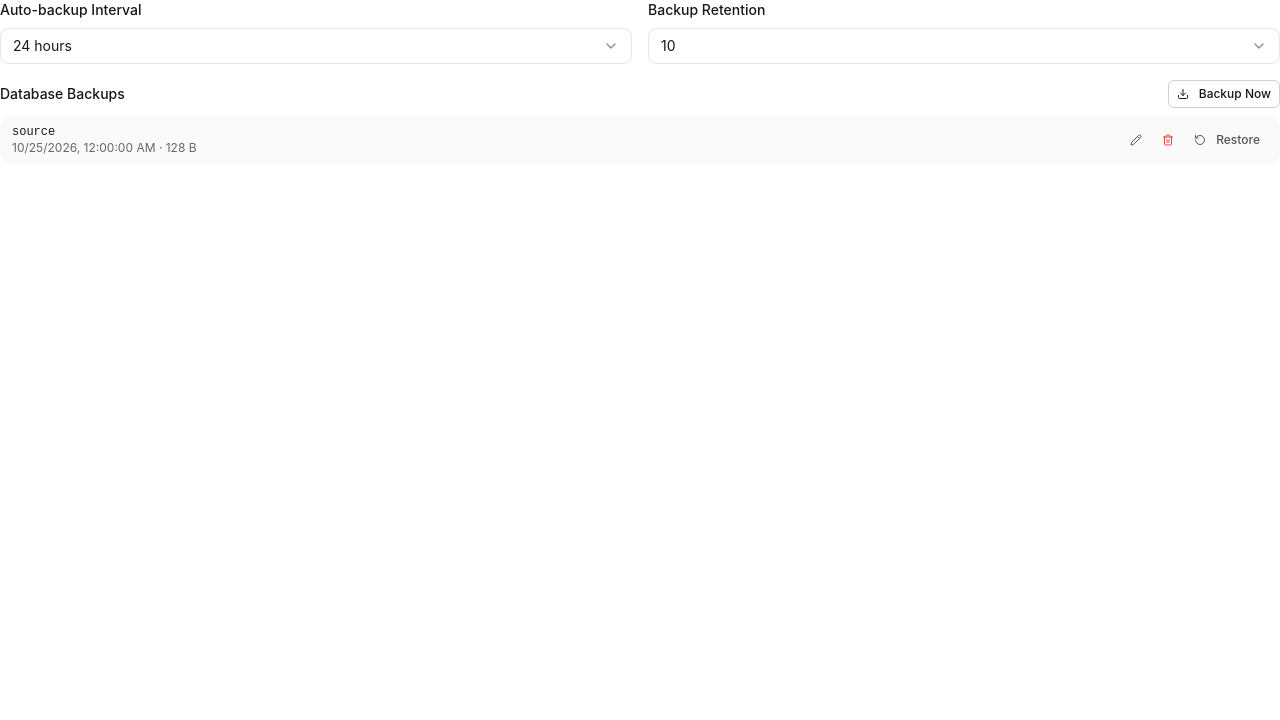
Test case: backup restore committed-result consumer › shows partial success with the unchanged safety ID and refreshes queries without restoring twice
Click the button "Restore".
click(1227, 140)  # box [1186,126,1268,154]
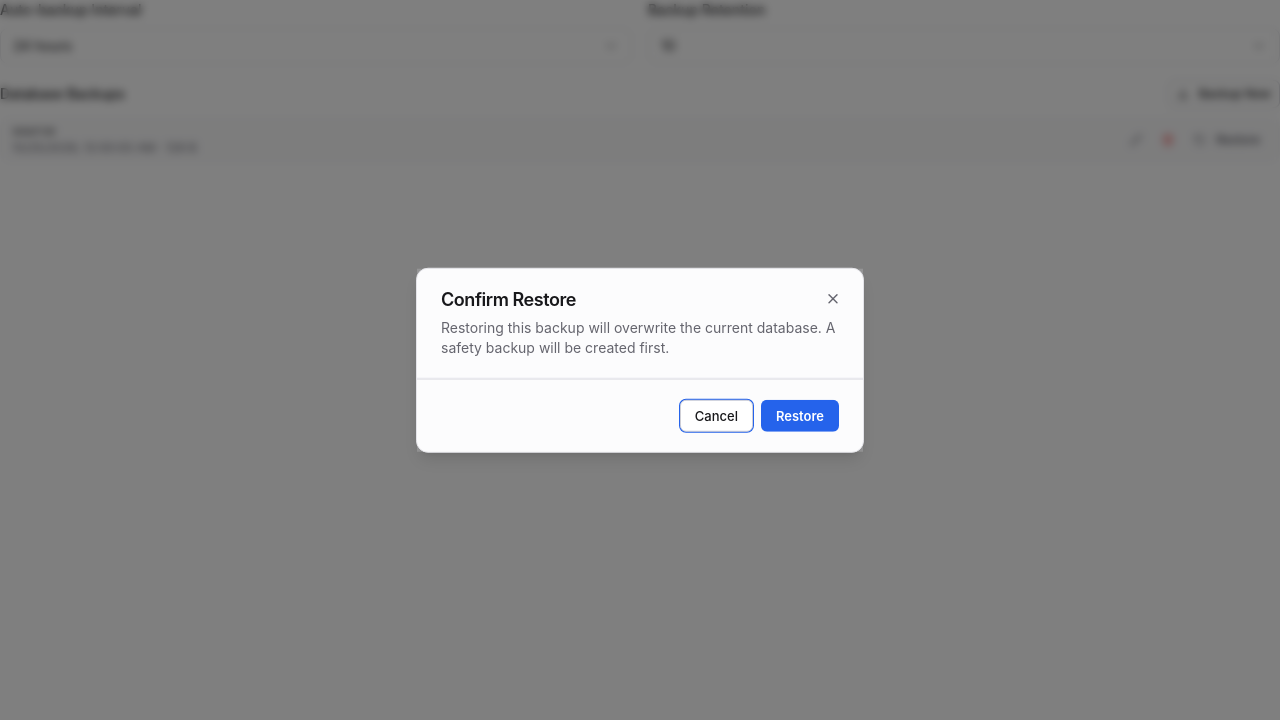
Click the button "Restore".
click(800, 415)  # box [761,399,839,431]
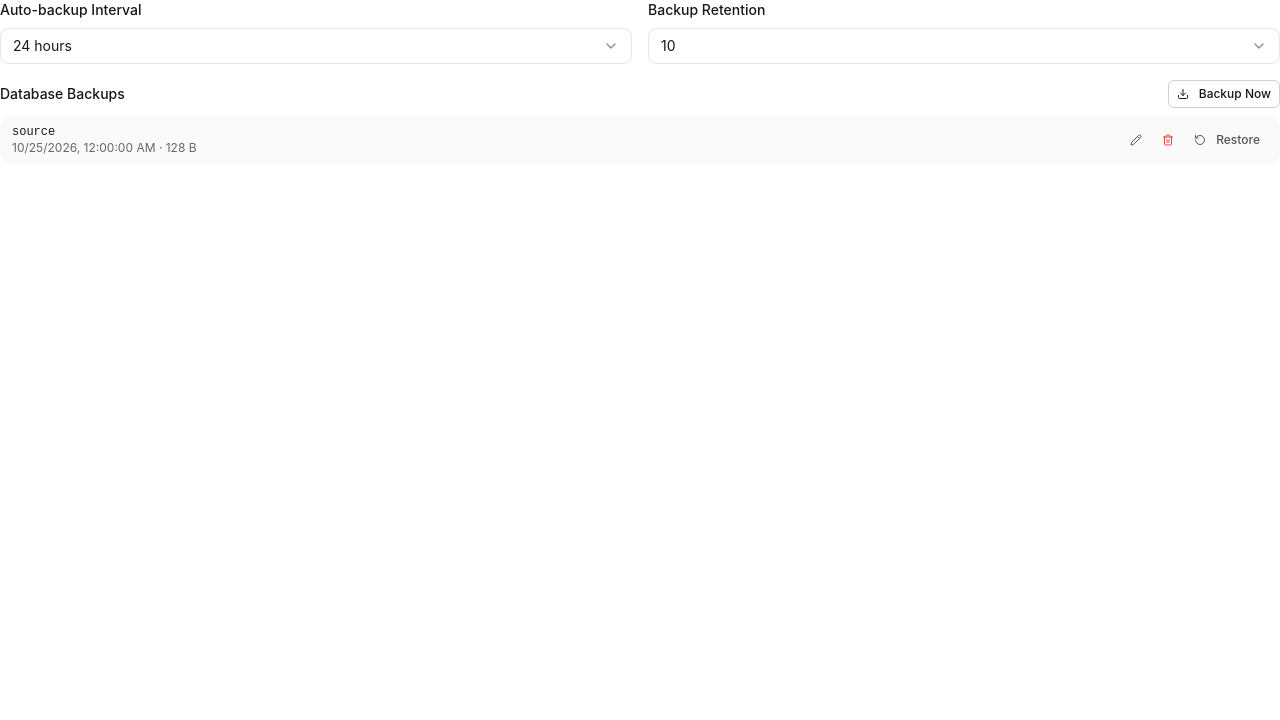
Expected: the dialog is gone
